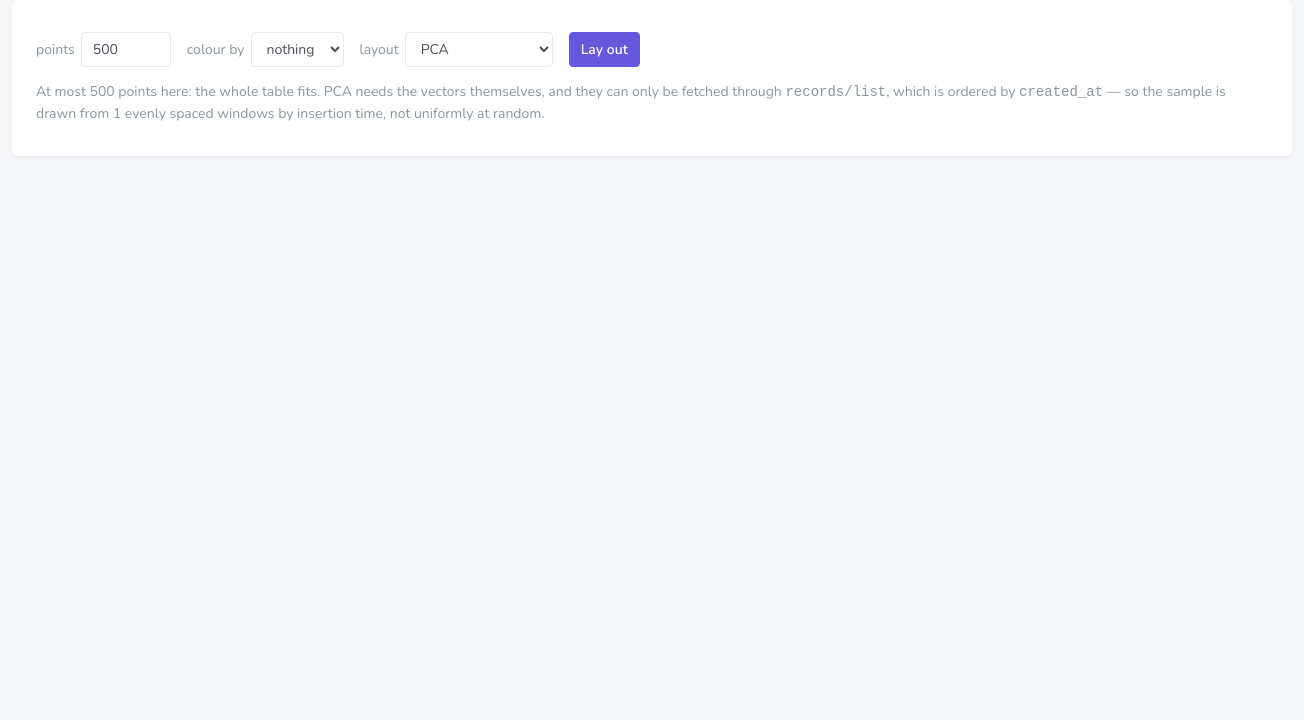
Test: colour by › offers the payload fields before Project is pressed
This screenshot has width=1304, height=720.
Expected: the dropdown labelled "colour by" is enabled, [250,32,344,67]
// And still there once a projection exists, rather than being replaced by it.
Click the button "Lay out". click: {"x": 604, "y": 50}
box: [569,32,640,67]
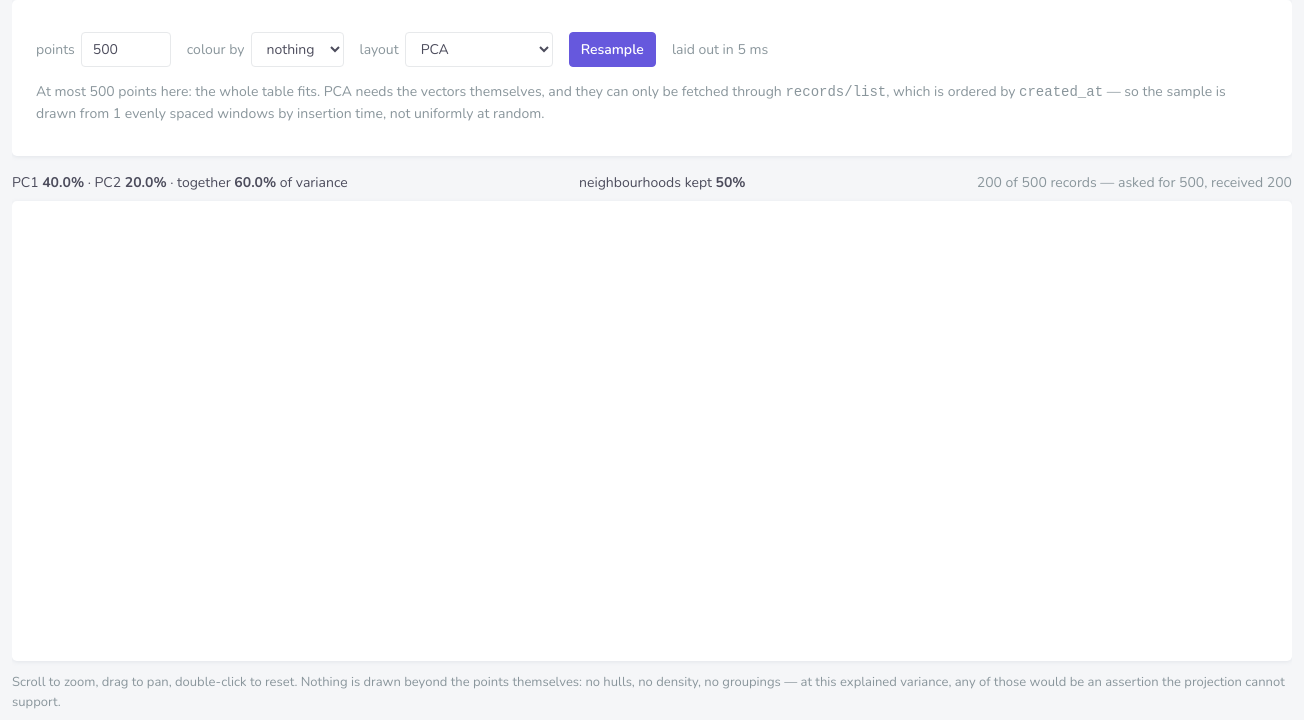
Now the text "PC1 40.0% · PC2 20.0% · together 60.0% of variance" is shown, box [12,172,348,193]
